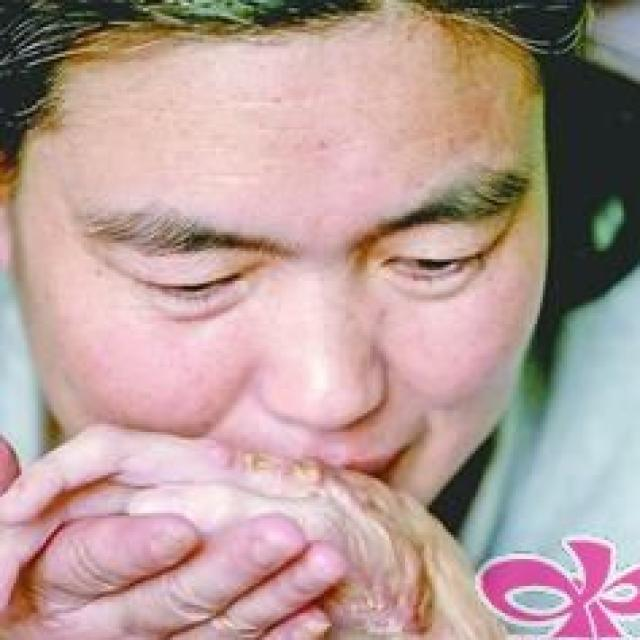Depress: (14, 12, 549, 565)
